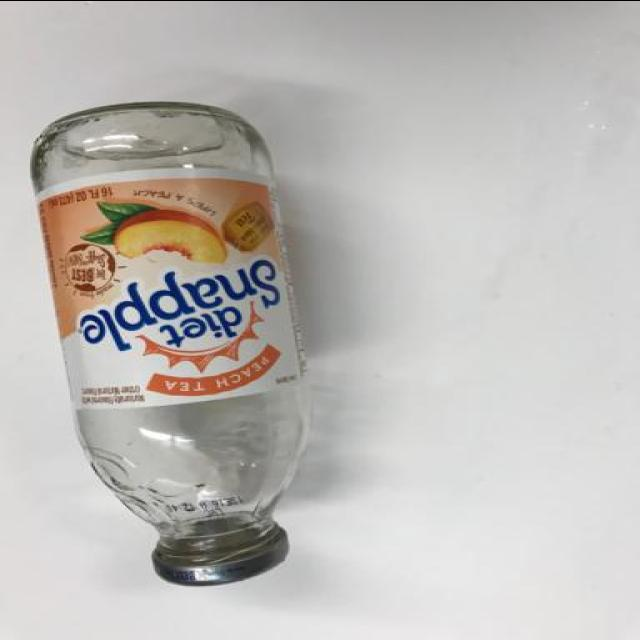litter: (27, 100, 313, 588)
